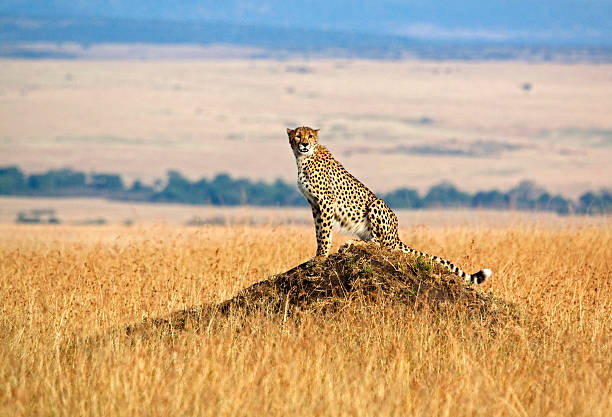cheetah: (283, 118, 328, 160)
